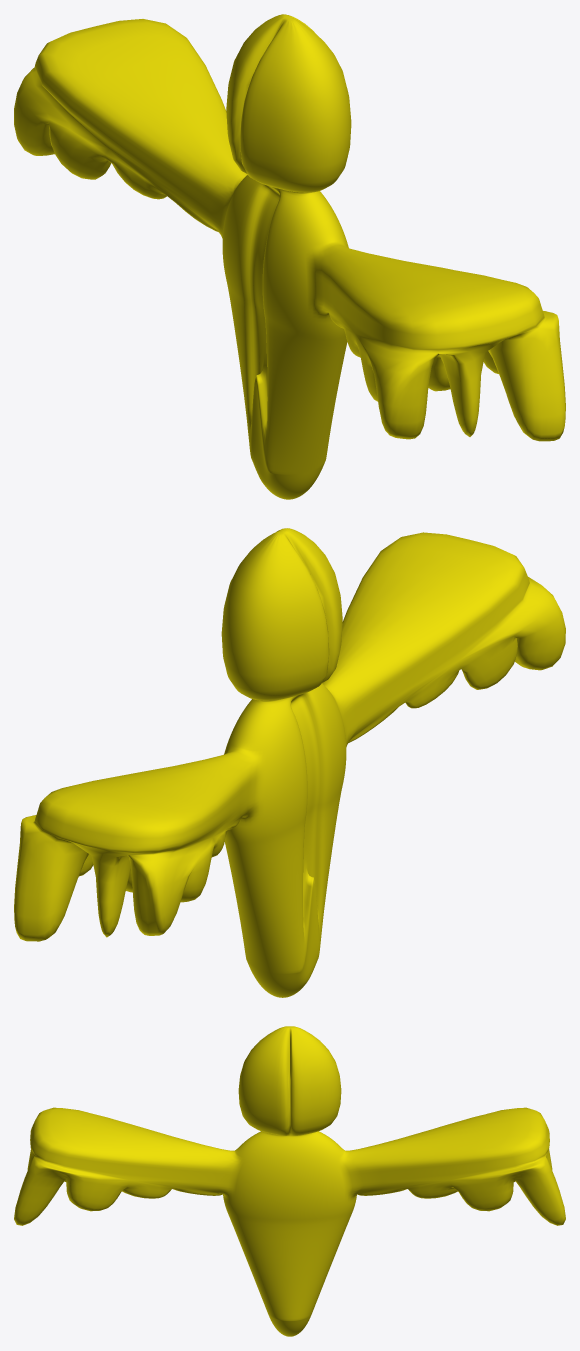
Rendered from Golden Amulet.fbx.
3 views of the same model, one above another, from view 1: azimuth 30°, elevation 25°; view 2: azimuth 150°, elevation 25°; view 3: azimuth 270°, elevation 25° (orthographic). The views are drawn at different scales.
Visible parts, largest first — view 1: pSphere1; view 2: pSphere1; view 3: pSphere1.
Boxes of the visible parts, x1,y1,x2,y2 form: pSphere1: (14, 14, 565, 499); pSphere1: (14, 528, 565, 997); pSphere1: (14, 1026, 565, 1336).
Size of the model in its own units: 1.96 by 4.96 by 8.04.
Materials: 1 (1 with a texture image).
